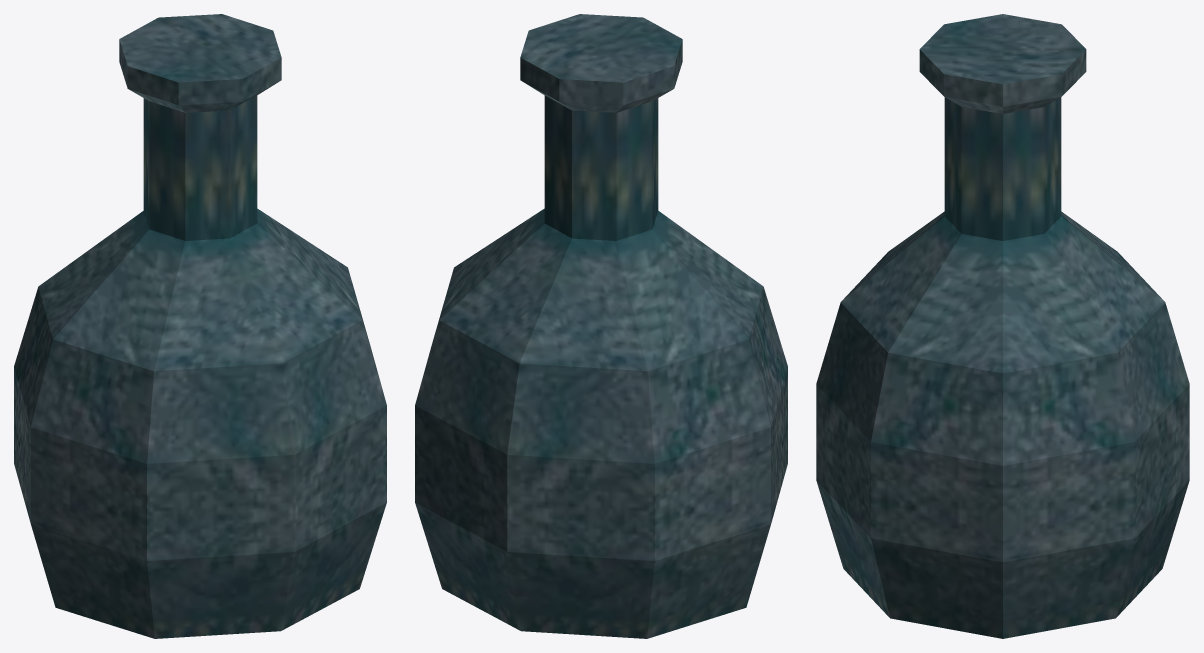
File: GS_SOK_SAMOGON_01_SZCZAWIK.glb
The picture shows the model from 3 angles, left to right: view 1: azimuth 30°, elevation 25°; view 2: azimuth 150°, elevation 25°; view 3: azimuth 270°, elevation 25°; orthographic projection.
Visible parts, largest first — view 1: GS_SOK_SAMOGON_01_SZCZAWIK; view 2: GS_SOK_SAMOGON_01_SZCZAWIK; view 3: GS_SOK_SAMOGON_01_SZCZAWIK.
Part boxes in pixels (left/top/right/bottom): GS_SOK_SAMOGON_01_SZCZAWIK: left=14, top=14, right=386, bottom=638; GS_SOK_SAMOGON_01_SZCZAWIK: left=415, top=14, right=787, bottom=638; GS_SOK_SAMOGON_01_SZCZAWIK: left=816, top=14, right=1189, bottom=638.
Bounding box in the file's own units: 0.1911 × 0.2822 × 0.1838.
Materials: 1 (1 with a texture image).
